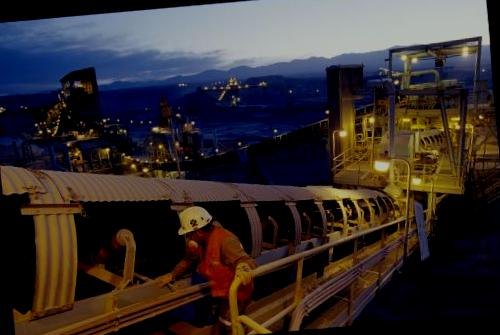person: (161, 196, 257, 335)
